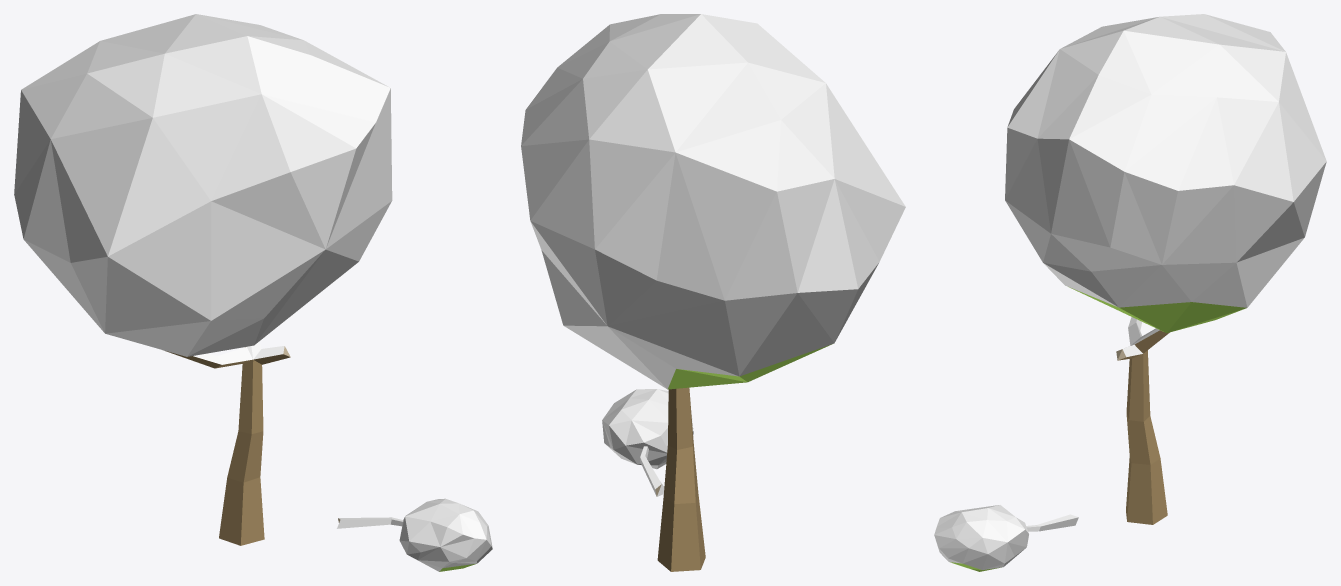
Rendered from Apple_Tree_crk_m_Snow_BT_02.fbx.
3 renders of one model, left to right at view 1: azimuth 30°, elevation 25°; view 2: azimuth 150°, elevation 25°; view 3: azimuth 270°, elevation 25°, orthographic. The views are drawn at different scales.
Visible parts, largest first — view 1: Apple_Tree_crk_m_Snow_BT_02; view 2: Apple_Tree_crk_m_Snow_BT_02; view 3: Apple_Tree_crk_m_Snow_BT_02.
Part boxes in pixels (left/top/right/bottom): Apple_Tree_crk_m_Snow_BT_02: left=14, top=14, right=492, bottom=571; Apple_Tree_crk_m_Snow_BT_02: left=521, top=14, right=905, bottom=571; Apple_Tree_crk_m_Snow_BT_02: left=934, top=14, right=1326, bottom=571.
Size of the model in its own units: 476 by 668 by 492.
